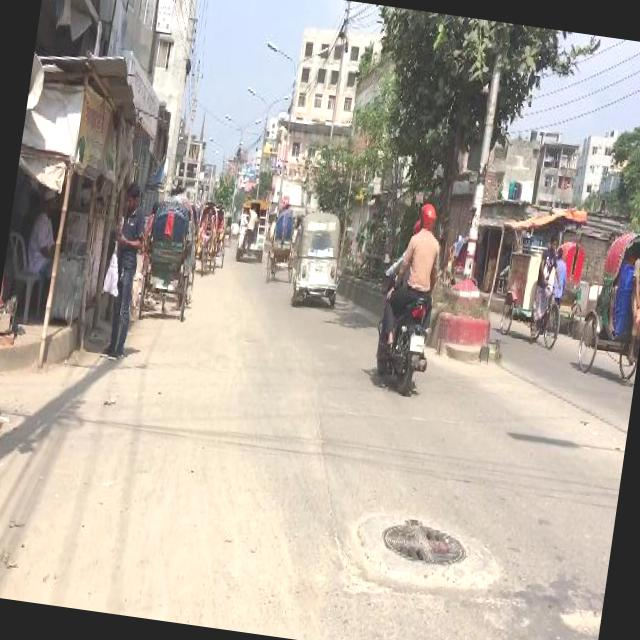bus: (233, 196, 270, 263)
motorcycle: (360, 196, 452, 398), (575, 222, 640, 383), (137, 204, 199, 320), (288, 208, 349, 310), (551, 240, 591, 332), (264, 206, 302, 285), (190, 198, 223, 276), (210, 206, 230, 266), (220, 210, 234, 244)
